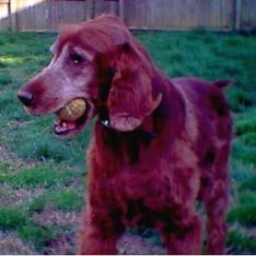dog: (18, 11, 234, 251)
